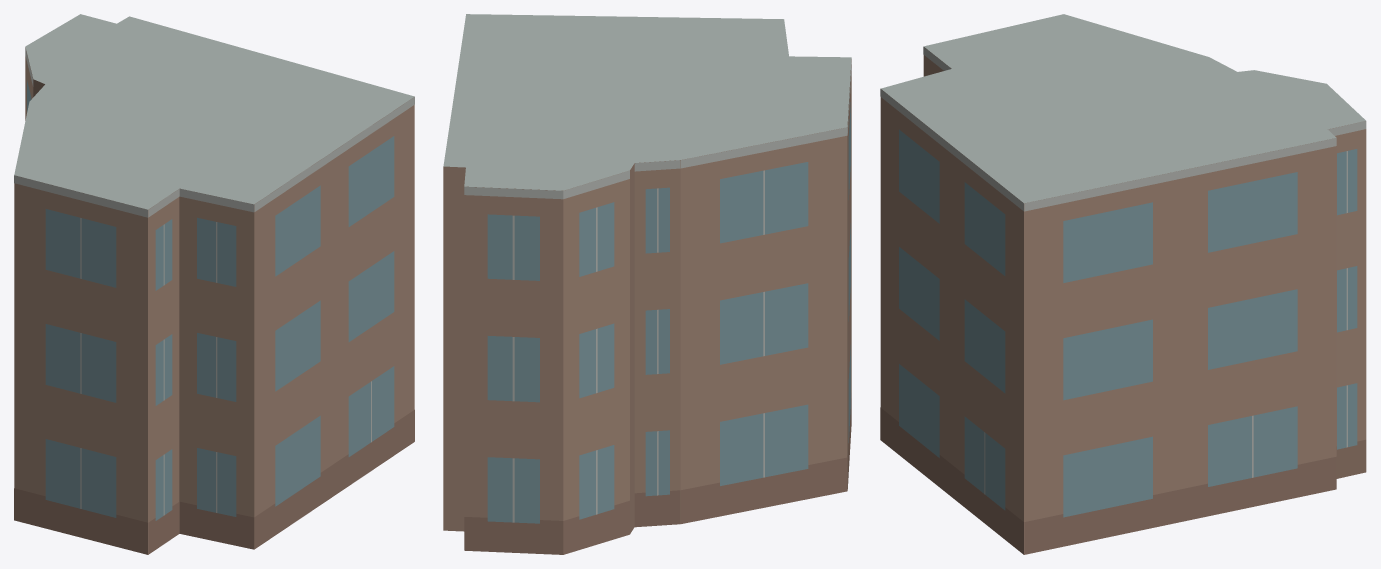
Rendered from survey-upis-32746785.glb.
3 renders of one model, left to right at view 1: azimuth 30°, elevation 25°; view 2: azimuth 150°, elevation 25°; view 3: azimuth 270°, elevation 25°, orthographic. The views are drawn at different scales.
Visible parts, largest first — view 1: survey-upis-32746785.tmp; view 2: survey-upis-32746785.tmp; view 3: survey-upis-32746785.tmp.
Part boxes in pixels (<box>): survey-upis-32746785.tmp: <box>14,14,414,554</box>; survey-upis-32746785.tmp: <box>443,14,851,554</box>; survey-upis-32746785.tmp: <box>880,14,1366,554</box>.
Bounding box in the file's own units: 12.11 × 10.47 × 13.12.
